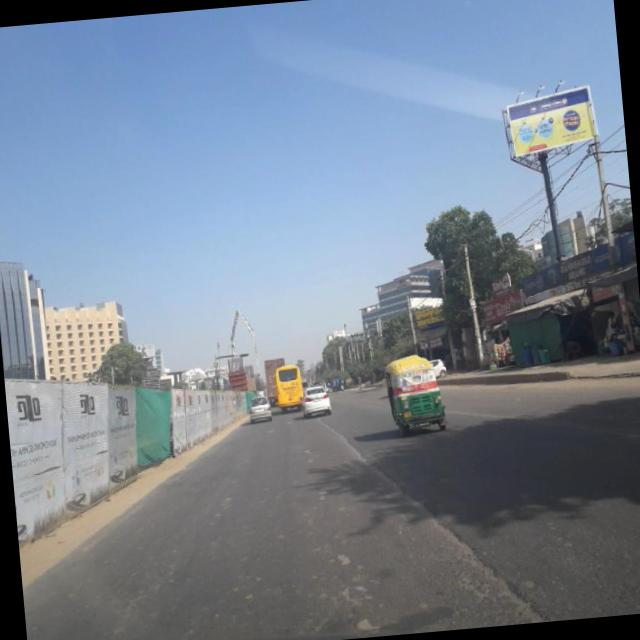crack: (345, 424, 531, 624)
